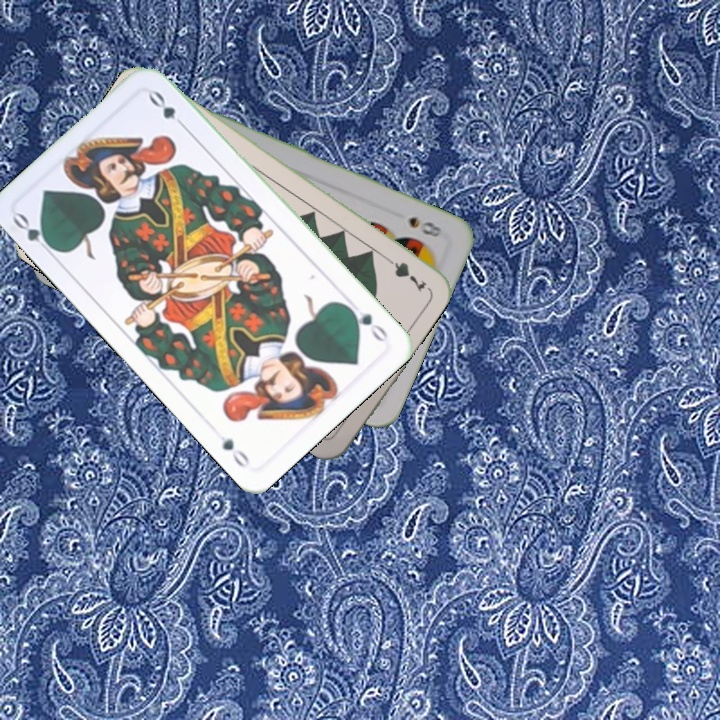G7: (377, 250, 430, 294)
GO: (8, 209, 59, 258), (342, 301, 391, 345)
S8: (405, 212, 445, 240)
